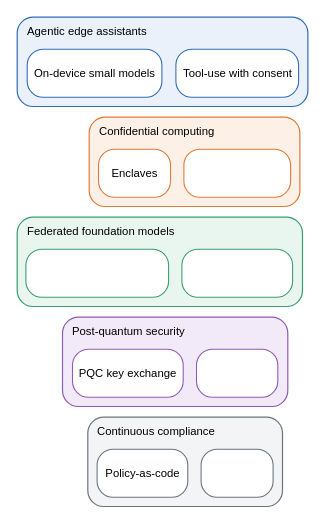
The diagram is 326 pixels wide and 525 high, and some of its shapes have lost their labels. The centre of each missing label's shape, as x and y in pixels:
"Crypto-agility" goes at (237,372).
"Parameter-efficient tuning" goes at (97,272).
"Remote attestation" goes at (237,172).
"Secure aggregation" goes at (237,272).
"Unlearning" goes at (236,472).
